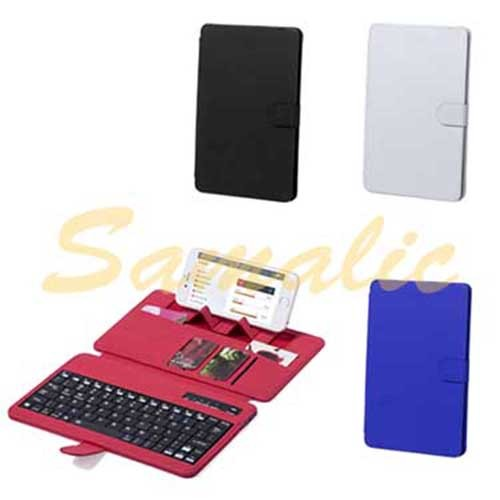Teclado: (4, 347, 261, 472)
